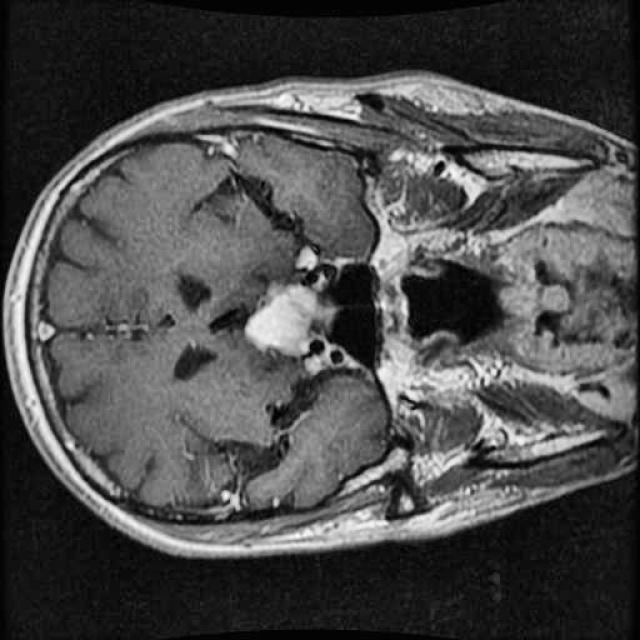Tumor: (234, 259, 338, 379)
